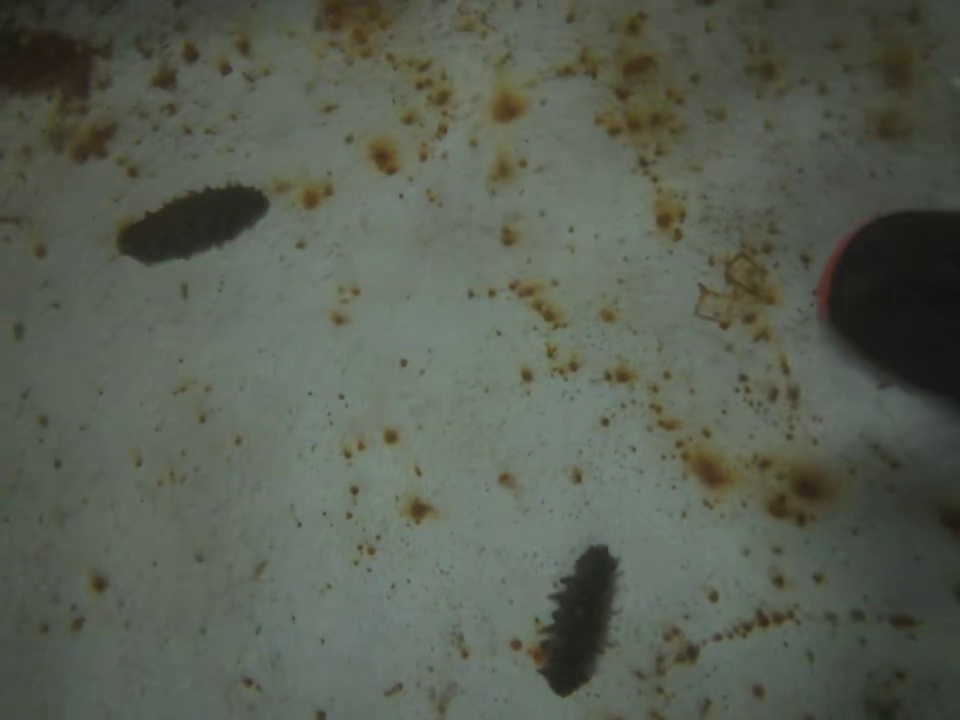seacucumber: (119, 181, 271, 271), (540, 541, 617, 701)
